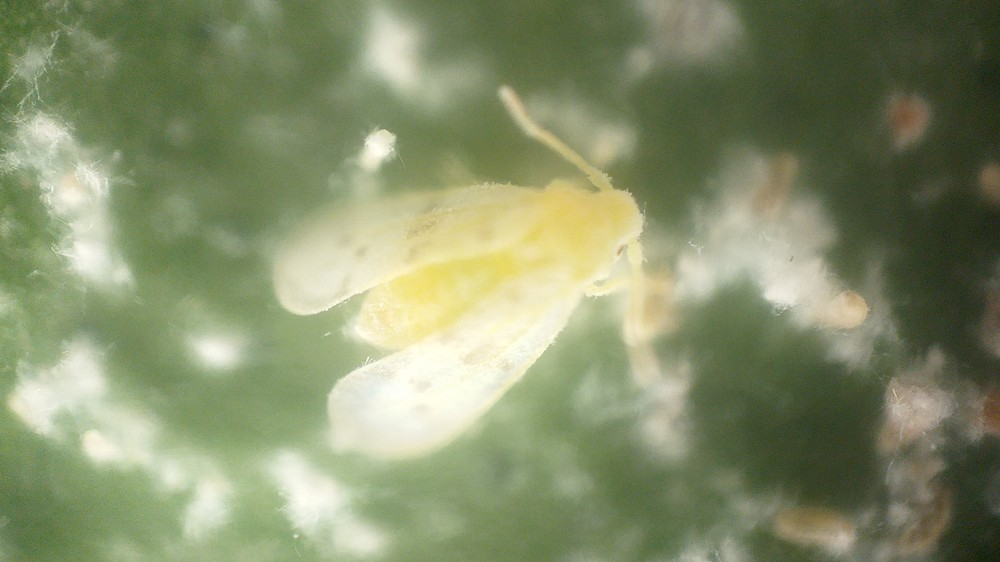Mosca Blanca: (261, 85, 673, 466)
